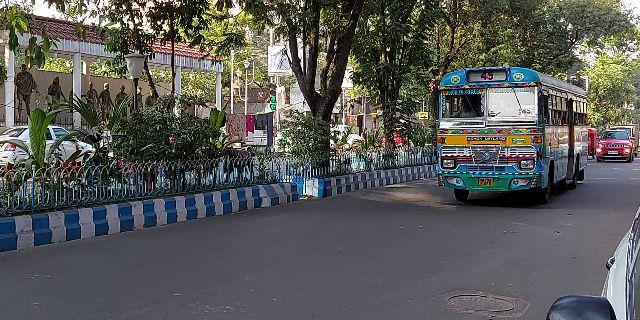Bus: (435, 62, 591, 207)
Car: (594, 127, 636, 165)
